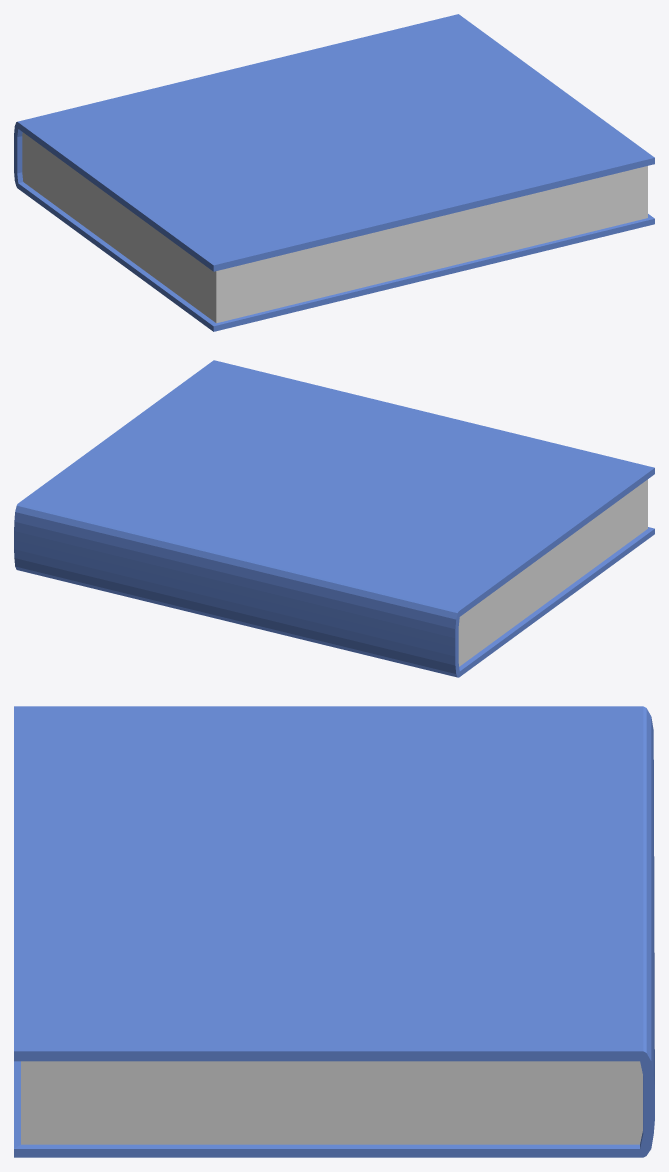
File: Book.fbx
3 renders of one model, top to bottom at view 1: azimuth 30°, elevation 25°; view 2: azimuth 150°, elevation 25°; view 3: azimuth 270°, elevation 25°, orthographic. The views are drawn at different scales.
Parts seen in each view (by area): view 1: Book; view 2: Book; view 3: Book.
Boxes of the visible parts, bbox=[...] form: Book: bbox=[14, 14, 654, 331]; Book: bbox=[14, 360, 654, 677]; Book: bbox=[14, 706, 654, 1157].
Size of the model in its own units: 28.41 by 4.09 by 22.31.
